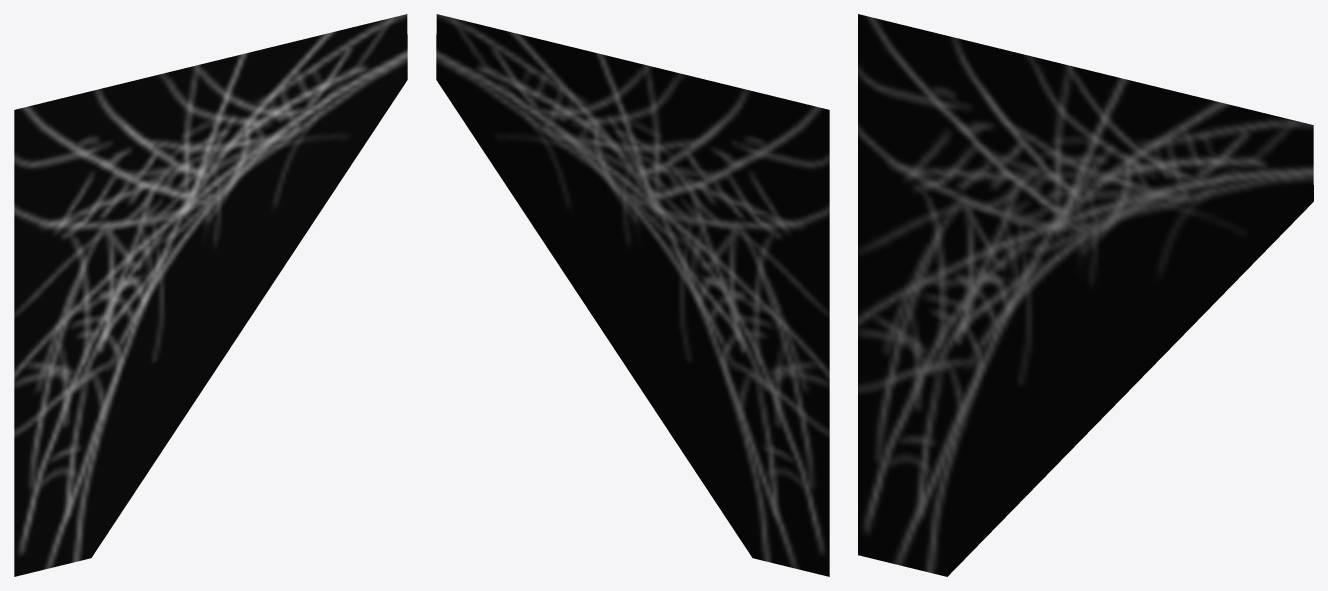
File: PRP_WebA.FBX
3 views of the same model, side by side, from view 1: azimuth 30°, elevation 25°; view 2: azimuth 150°, elevation 25°; view 3: azimuth 330°, elevation 25° (orthographic). The views are drawn at different scales.
Visible parts, largest first — view 1: PRP_WebA; view 2: PRP_WebA; view 3: PRP_WebA.
Part boxes in pixels (bbox=[...]): PRP_WebA: bbox=[14, 14, 407, 576]; PRP_WebA: bbox=[436, 14, 829, 576]; PRP_WebA: bbox=[858, 14, 1313, 576].
Size of the model in its own units: 95.24 by 108 by 3.06e-14.
1 material, 1 textured.
